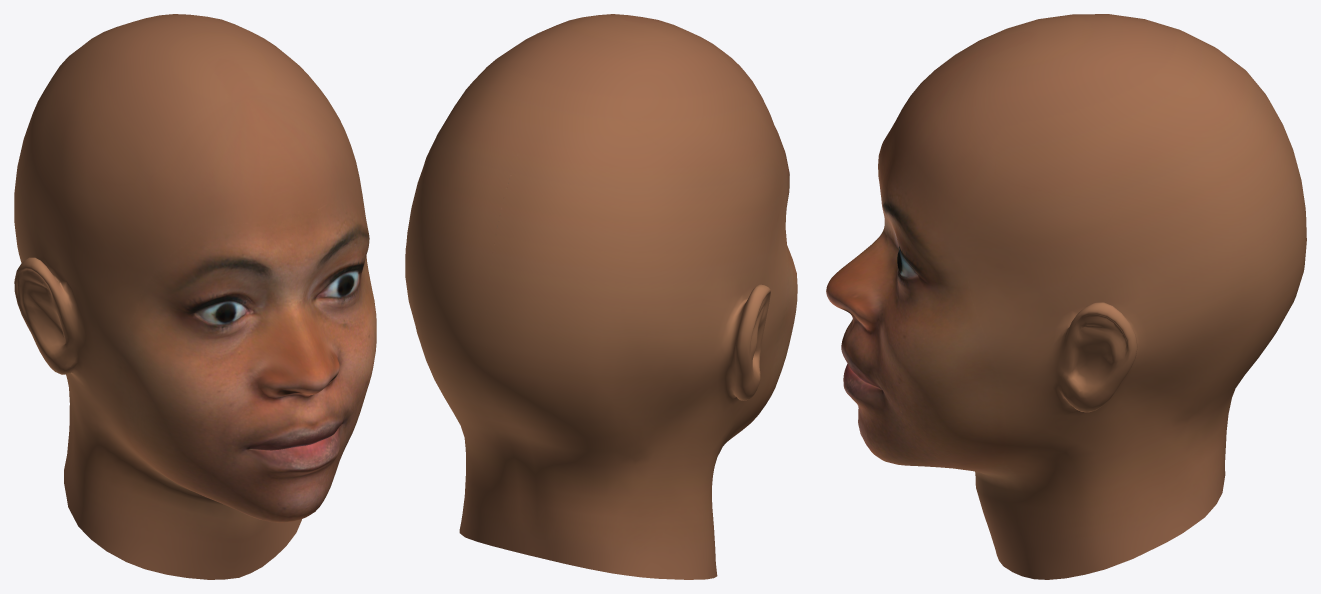
Rendered from v332_obj_ModifierBrowUpRight.obj.
3 renders of one model, left to right at view 1: azimuth 30°, elevation 25°; view 2: azimuth 150°, elevation 25°; view 3: azimuth 270°, elevation 25°, orthographic. The views are drawn at different scales.
Parts seen in each view (by area): view 1: HeadHires; view 2: HeadHires; view 3: HeadHires.
Part boxes in pixels (x1,y1,x2,y2): HeadHires: (14, 14, 376, 579); HeadHires: (405, 14, 797, 579); HeadHires: (826, 14, 1306, 579).
Size of the model in its own units: 187 by 282 by 233.
